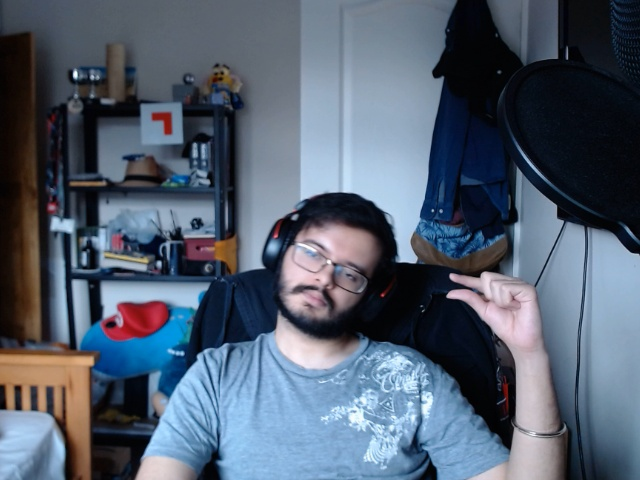Small: (442, 260, 552, 344)
